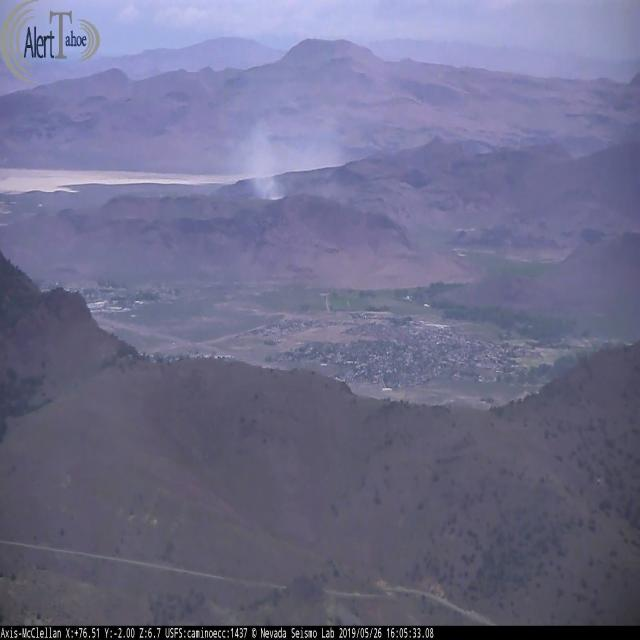smoke: (246, 119, 289, 199)
